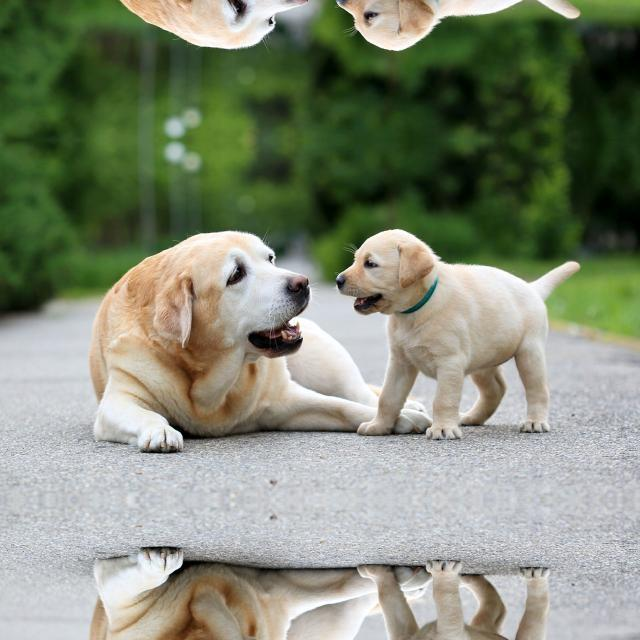dog: (330, 198, 590, 440), (143, 209, 320, 381), (329, 0, 590, 82), (329, 559, 590, 640), (142, 0, 319, 71), (142, 619, 319, 640)
